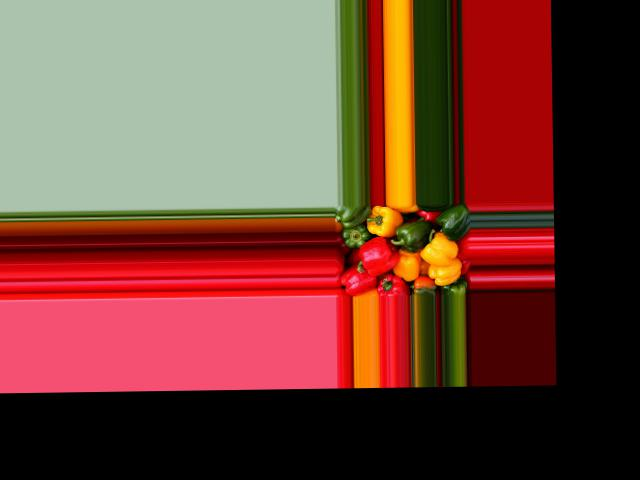bell_pepper: (436, 279, 466, 295)
